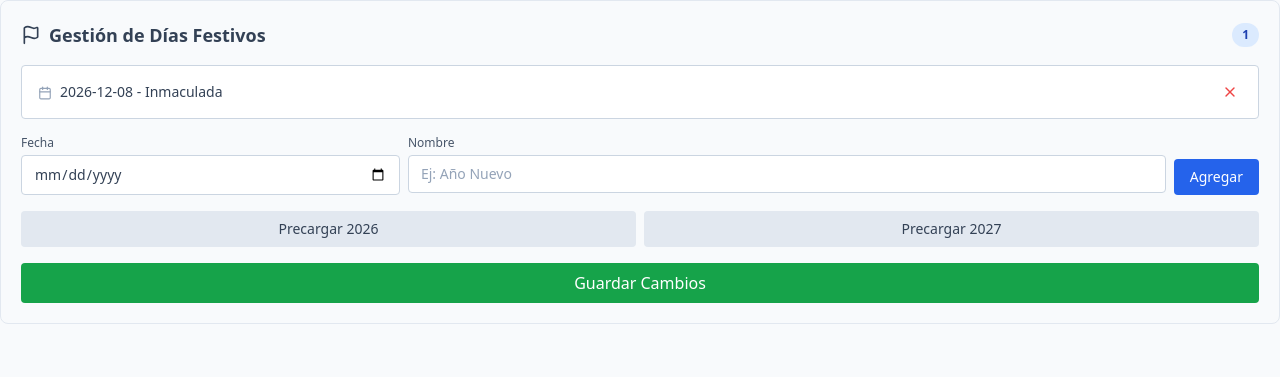
Test: HolidayManager › rejects duplicate holiday dates
expect the text "2026-12-08 - Inmaculada" is shown: met, box [38,82,222,102]
Type "2026-12-08" into the date field labelled "Fecha" at (210, 175), box [21,155,400,195]
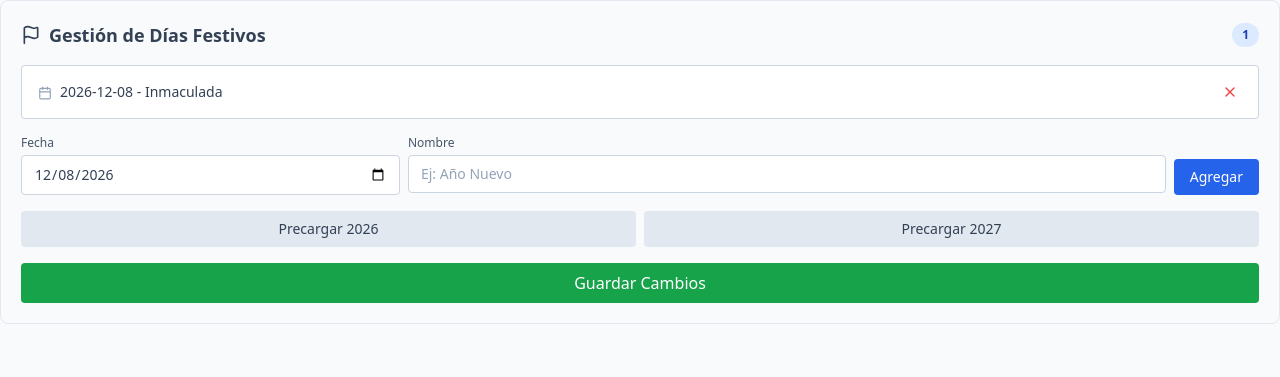
Type "Otro nombre" into the field labelled "Nombre" at (787, 174), box [408,155,1166,193]
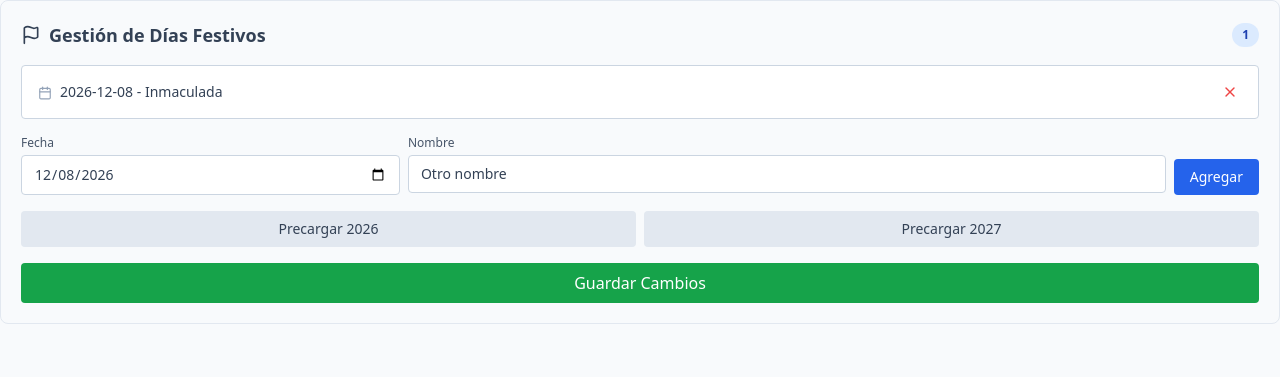
Click the button "Agregar" at (1216, 177), box [1174,159,1259,195]
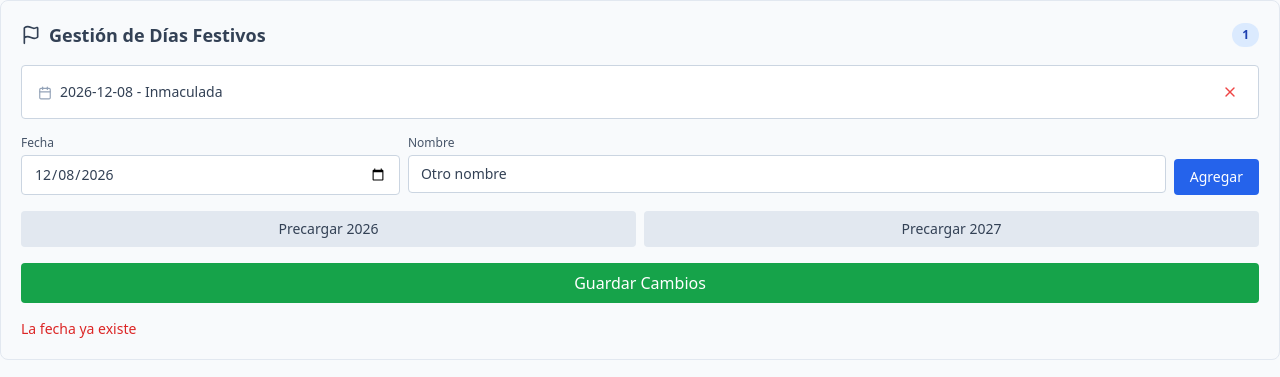
expect the text "La fecha ya existe" is shown: met, box [21,319,136,338]
